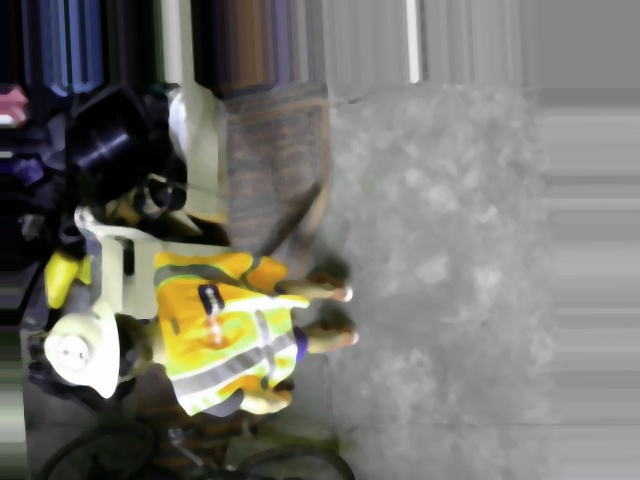one: (53, 332, 90, 370)
